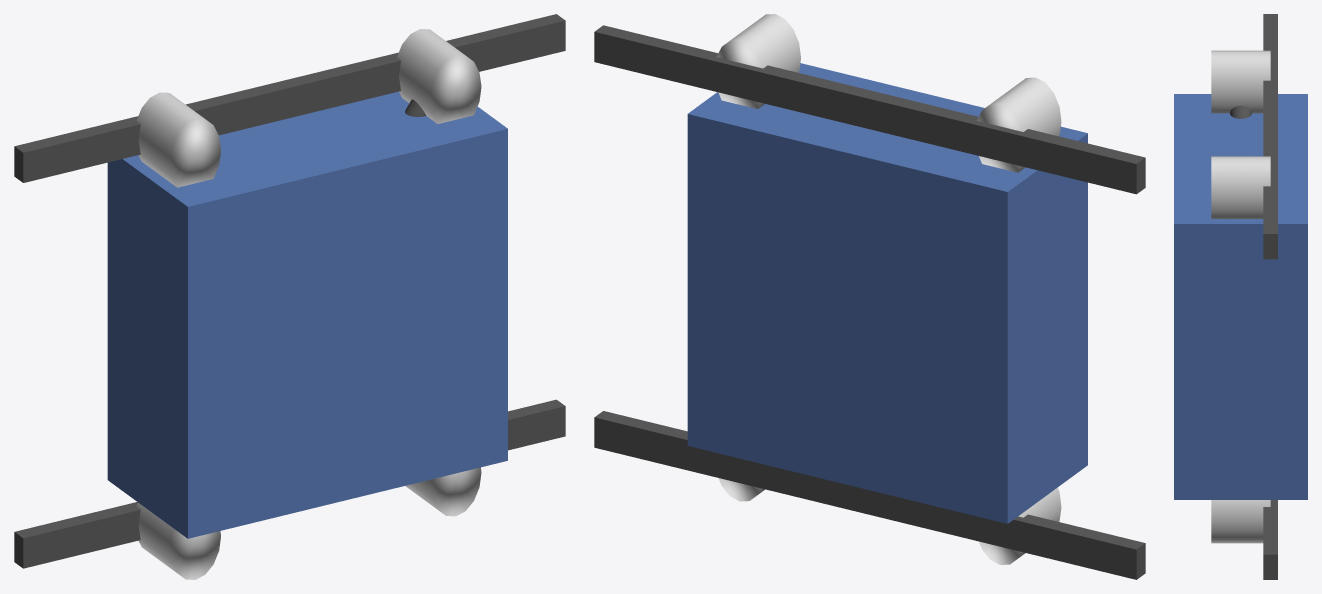
Rendered from C1_UAS_0001.glb.
3 views of the same model, side by side, from view 1: azimuth 30°, elevation 25°; view 2: azimuth 150°, elevation 25°; view 3: azimuth 270°, elevation 25° (orthographic). The views are drawn at different scales.
Size of the model in its own units: 0.9653 by 0.785 by 0.2478.
